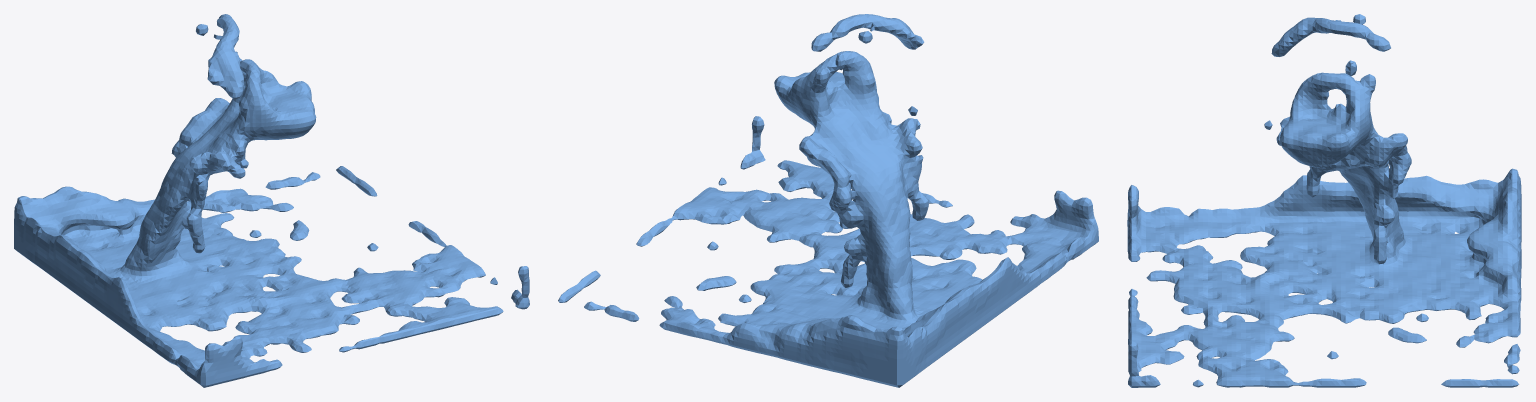
Rendered from water_0055.glb.
3 renders of one model, left to right at view 1: azimuth 30°, elevation 25°; view 2: azimuth 150°, elevation 25°; view 3: azimuth 270°, elevation 25°, orthographic. The views are drawn at different scales.
Visible parts, largest first — view 1: Water_0055; view 2: Water_0055; view 3: Water_0055.
Boxes of the visible parts, bbox=[...] form: Water_0055: bbox=[14, 14, 529, 387]; Water_0055: bbox=[558, 14, 1098, 387]; Water_0055: bbox=[1127, 14, 1521, 387].
Bounding box in the file's own units: 4.83 × 3.63 × 4.83.
